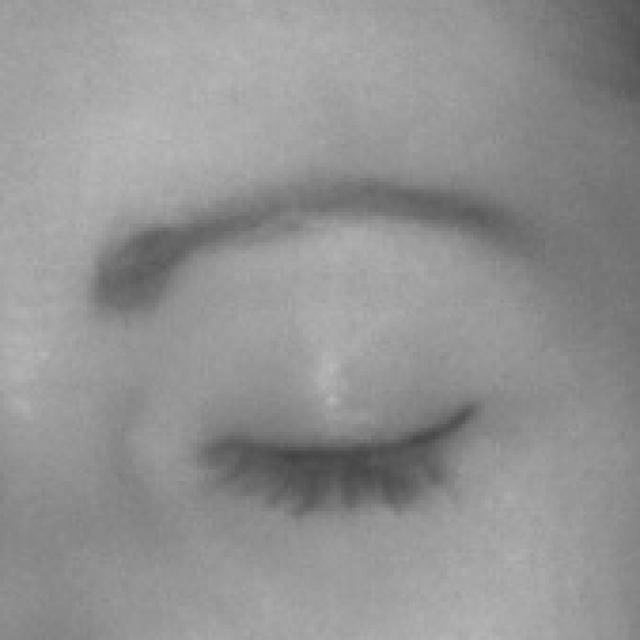Eyeclosed: (193, 338, 478, 587)
